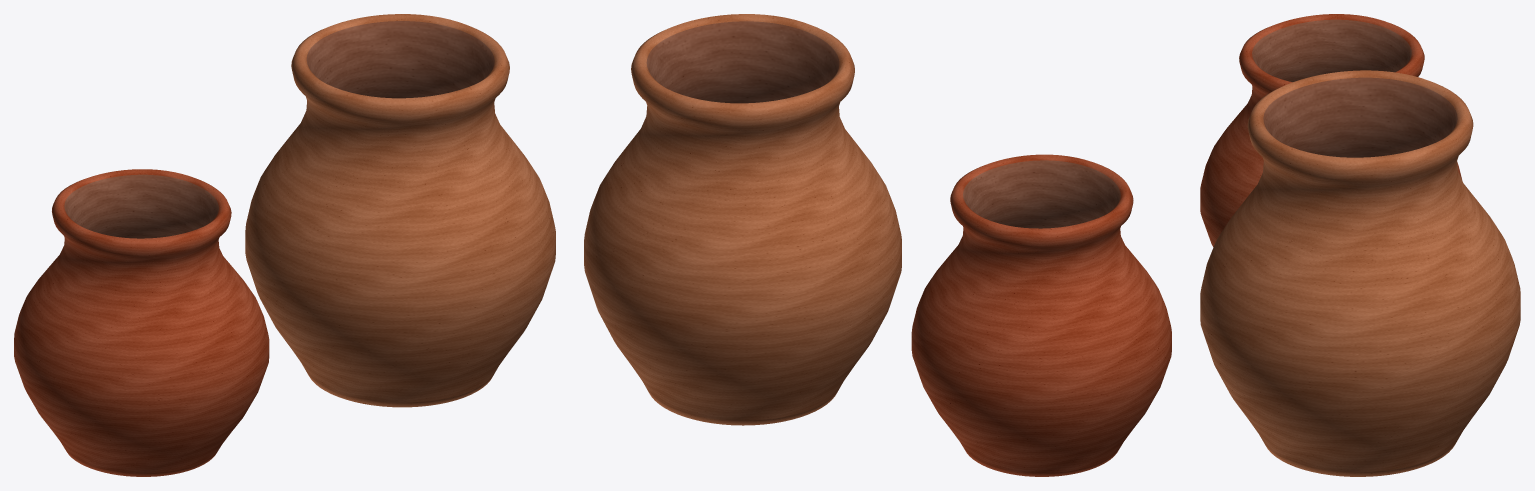
Rendered from clay-jars.glb.
The picture shows the model from 3 angles, left to right: view 1: azimuth 30°, elevation 25°; view 2: azimuth 150°, elevation 25°; view 3: azimuth 270°, elevation 25°; orthographic projection. The views are drawn at different scales.
Parts seen in each view (by area): view 1: LargeJar hollow ceramic body, SmallJar hollow ceramic body; view 2: LargeJar hollow ceramic body, SmallJar hollow ceramic body; view 3: LargeJar hollow ceramic body, SmallJar hollow ceramic body.
Part boxes in pixels (x1,y1,x2,y2): LargeJar hollow ceramic body: (245, 14, 555, 407); SmallJar hollow ceramic body: (14, 169, 269, 476); LargeJar hollow ceramic body: (584, 14, 901, 425); SmallJar hollow ceramic body: (911, 154, 1171, 476); LargeJar hollow ceramic body: (1200, 70, 1520, 476); SmallJar hollow ceramic body: (1200, 14, 1461, 246).
Bounding box in the file's own units: 0.3867 × 0.2244 × 0.2019.
4 materials, 4 textured.
